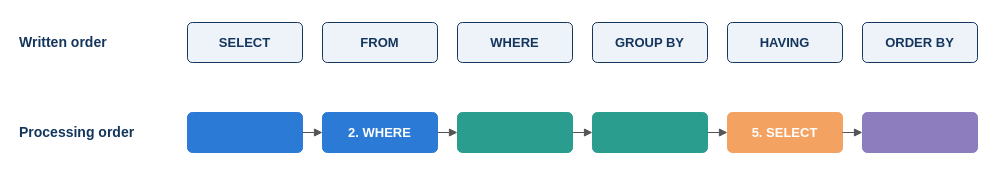
Image size: 995x174. Some labels were removed from this diagram. Here are the shapes that lost their labels. From the top down, the centre of each, then its label:
point 244,132: 1. FROM
point 514,132: 3. GROUP BY
point 650,132: 4. HAVING
point 920,132: 6. ORDER BY
